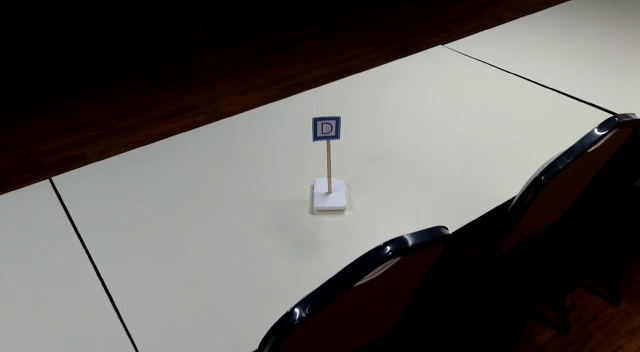durak: (313, 114, 340, 142)
